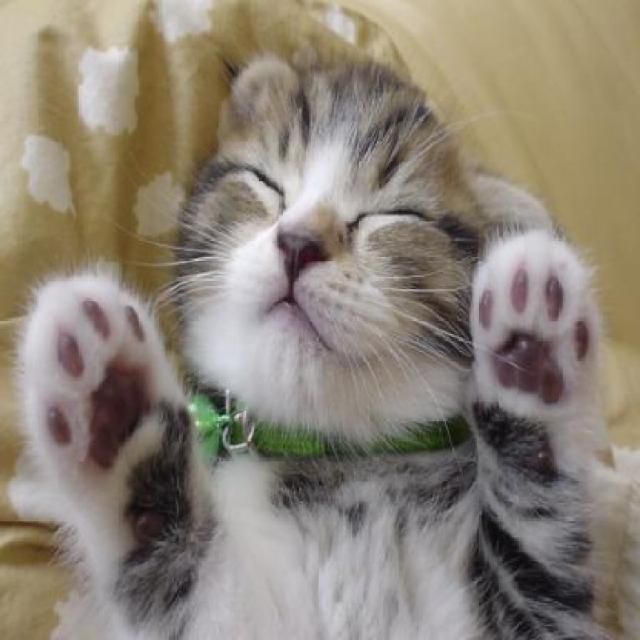Not_a_Chicken: (30, 60, 606, 548)
